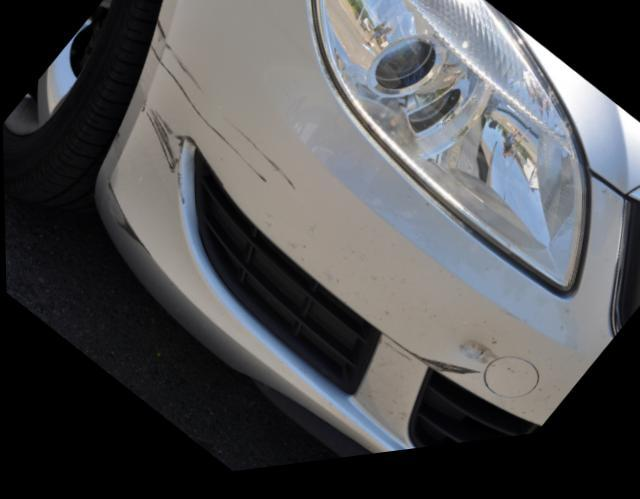dent: (456, 350, 491, 376)
scratch: (93, 24, 292, 262), (415, 367, 481, 389)
